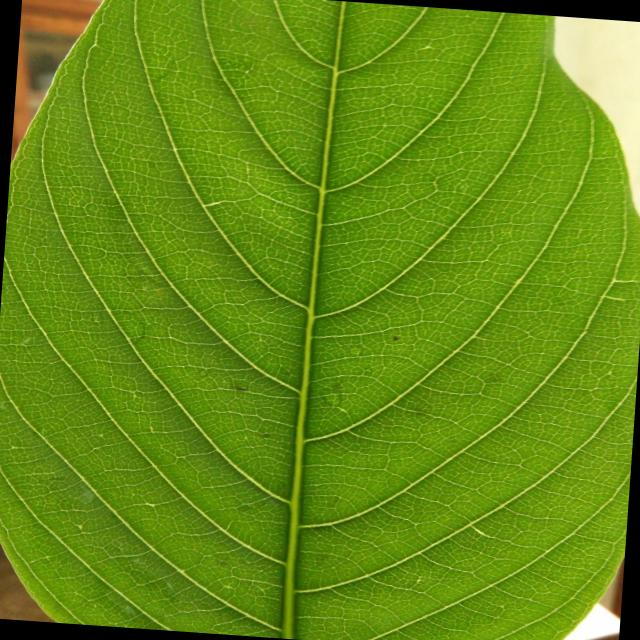Malabar Nut: (0, 19, 616, 640)
